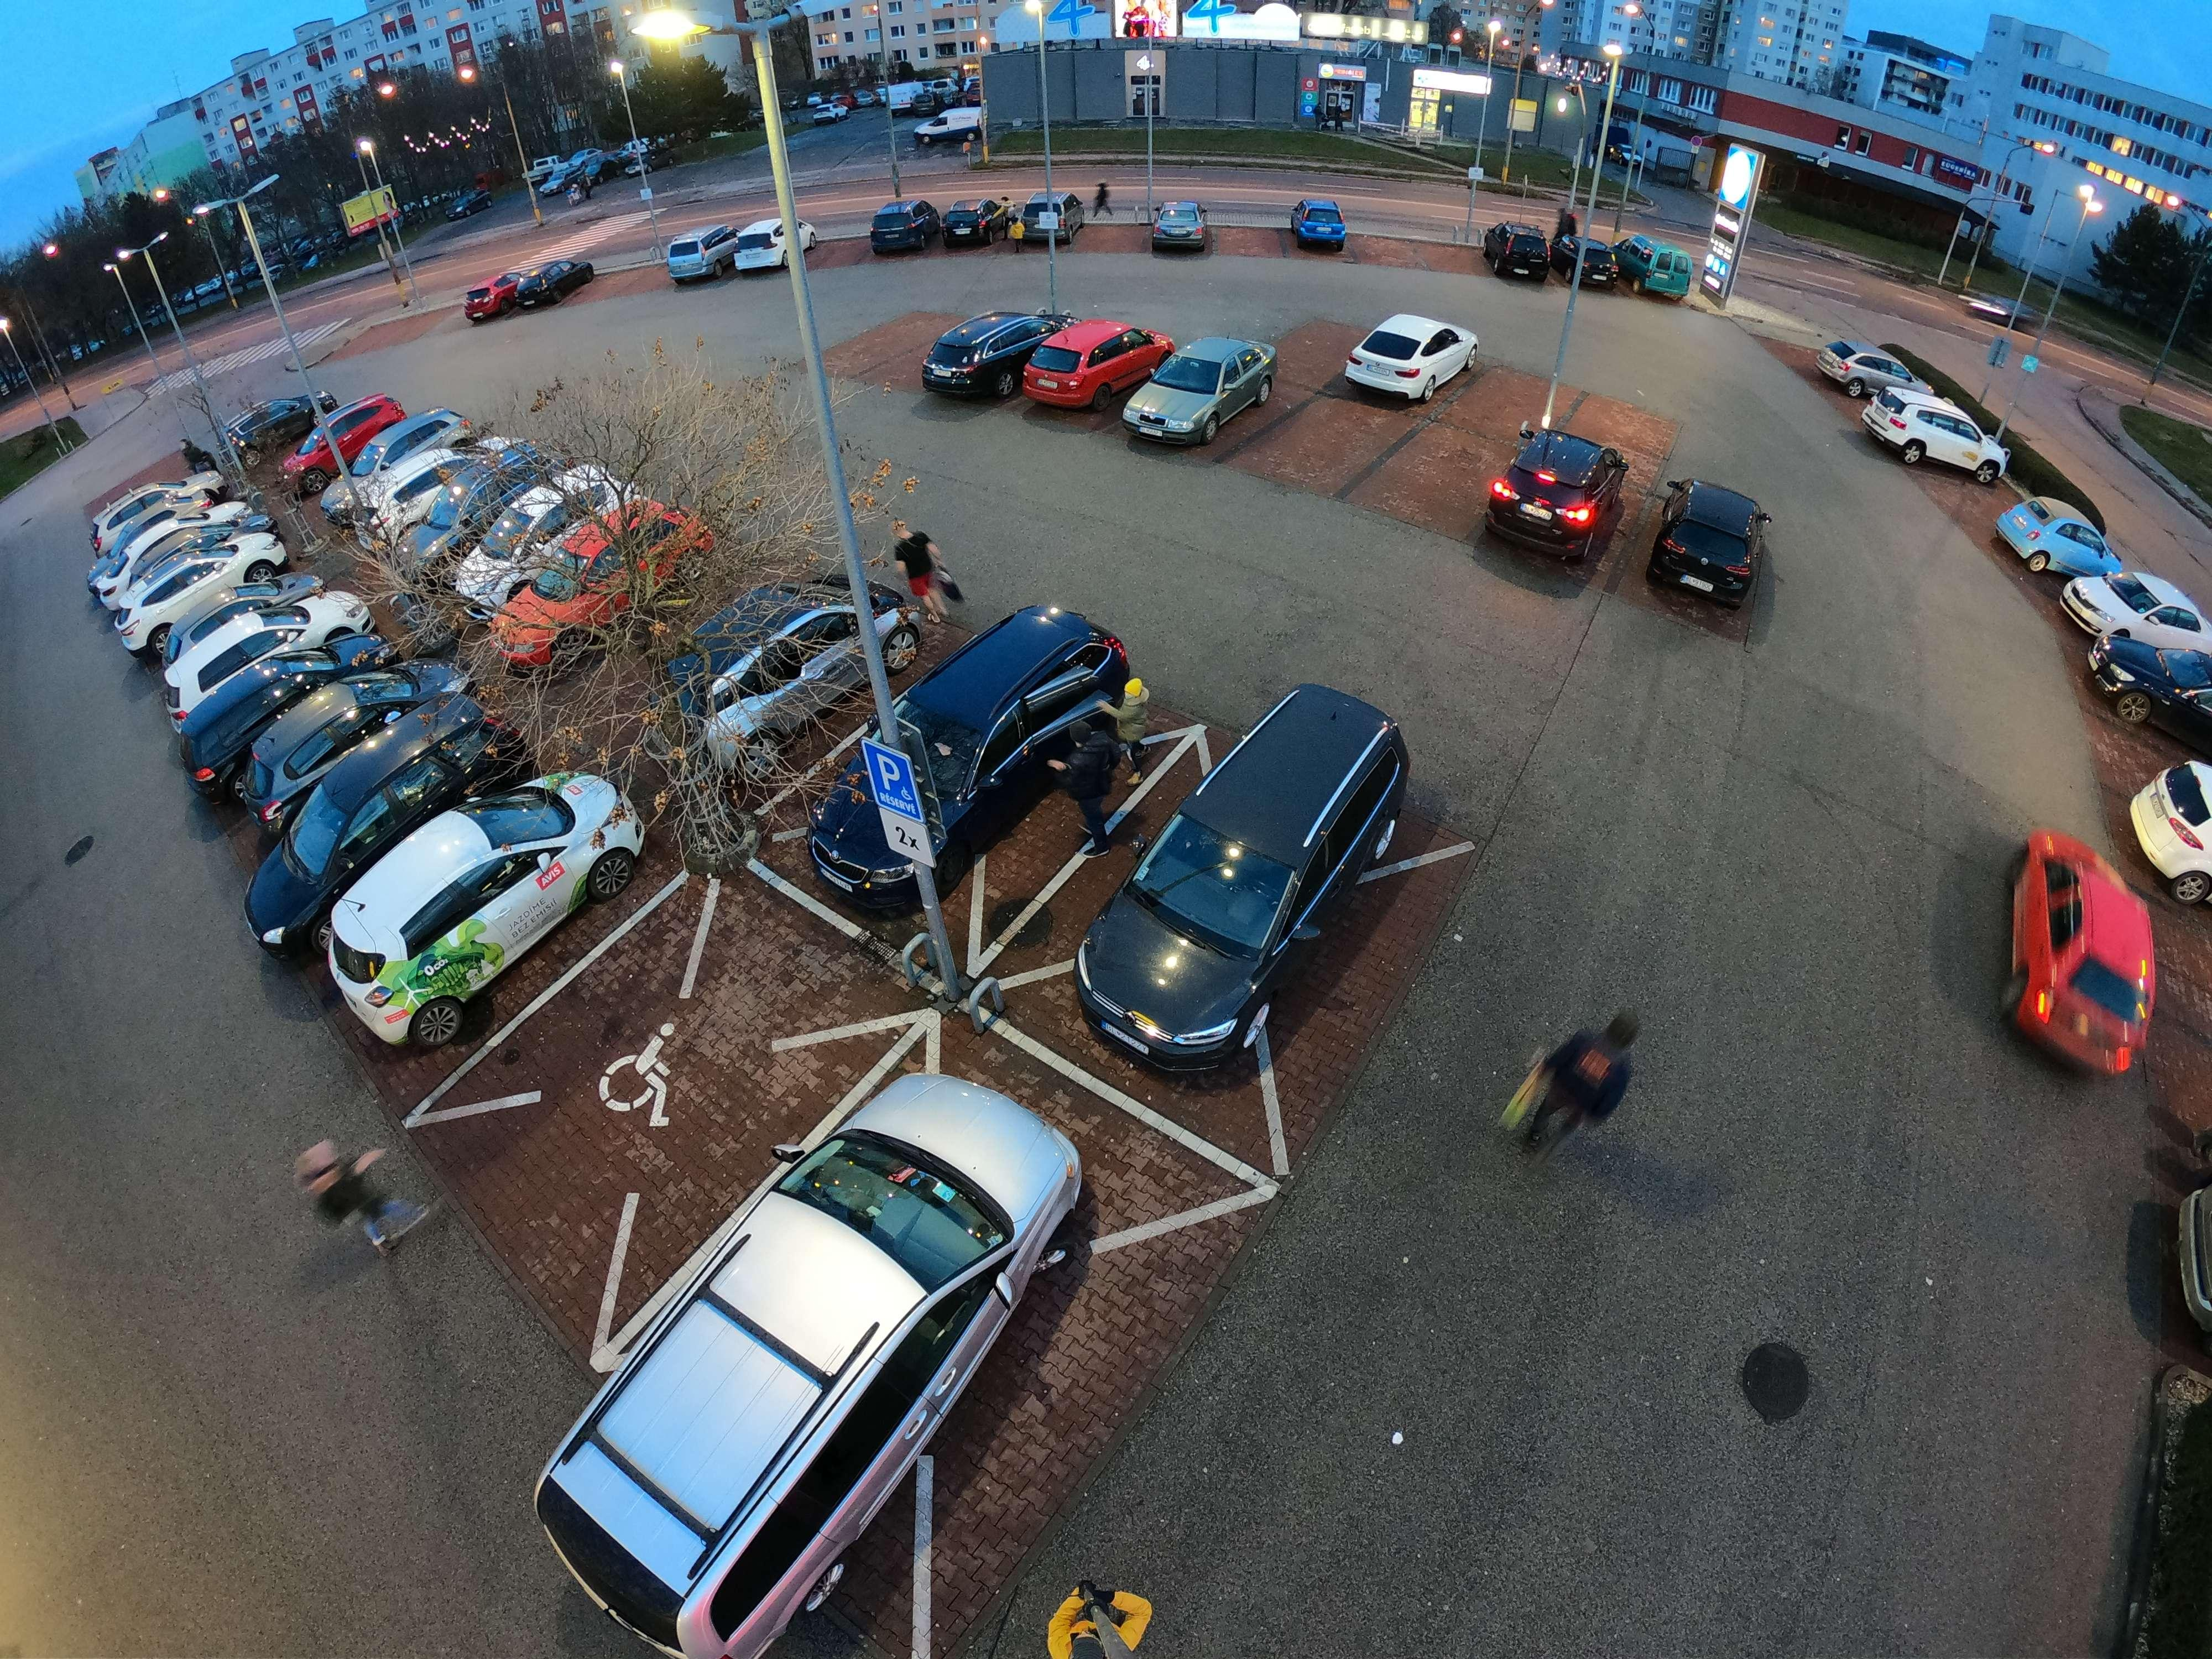empty: (557, 1070, 1113, 1640), (1055, 692, 1451, 1072), (308, 753, 695, 1044), (869, 624, 1151, 906), (657, 584, 885, 789), (474, 474, 697, 664), (199, 657, 460, 812), (1986, 838, 2158, 1072), (165, 610, 421, 737), (1479, 423, 1651, 573), (155, 575, 369, 687), (1632, 471, 1787, 619), (376, 434, 545, 551), (1120, 345, 1287, 455), (2083, 605, 2207, 748), (103, 528, 265, 620), (1331, 312, 1489, 406), (1014, 322, 1158, 418), (291, 397, 434, 490), (2067, 566, 2210, 652), (1865, 396, 2012, 477), (916, 315, 1050, 401), (1994, 500, 2127, 577), (493, 260, 601, 314), (657, 223, 752, 282), (723, 223, 812, 281), (1482, 228, 1564, 286), (867, 204, 948, 260), (930, 200, 1014, 253), (1007, 197, 1085, 251), (1285, 204, 1357, 254), (1148, 204, 1212, 256)
occupied: (603, 971, 826, 1129), (1381, 453, 1484, 511), (1270, 418, 1374, 465), (1458, 380, 1540, 425)
